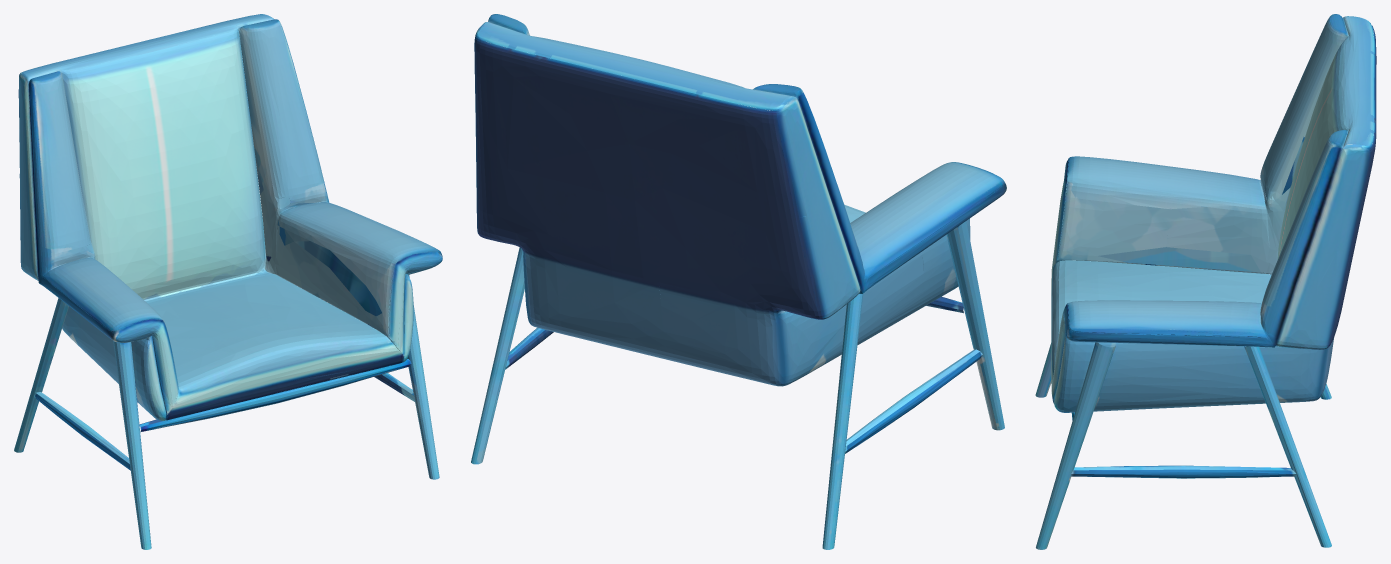
The model's file is edited_mesh.glb.
3 renders of one model, left to right at view 1: azimuth 30°, elevation 25°; view 2: azimuth 150°, elevation 25°; view 3: azimuth 270°, elevation 25°, orthographic. The views are drawn at different scales.
Parts seen in each view (by area): view 1: solid_001_wire; view 2: solid_001_wire; view 3: solid_001_wire.
Part boxes in pixels (left/top/right/bottom): solid_001_wire: left=14, top=14, right=442, bottom=549; solid_001_wire: left=471, top=14, right=1006, bottom=549; solid_001_wire: left=1035, top=14, right=1376, bottom=549.
Bounding box in the file's own units: 1.29 × 1.36 × 1.06.
1 material, 1 textured.
